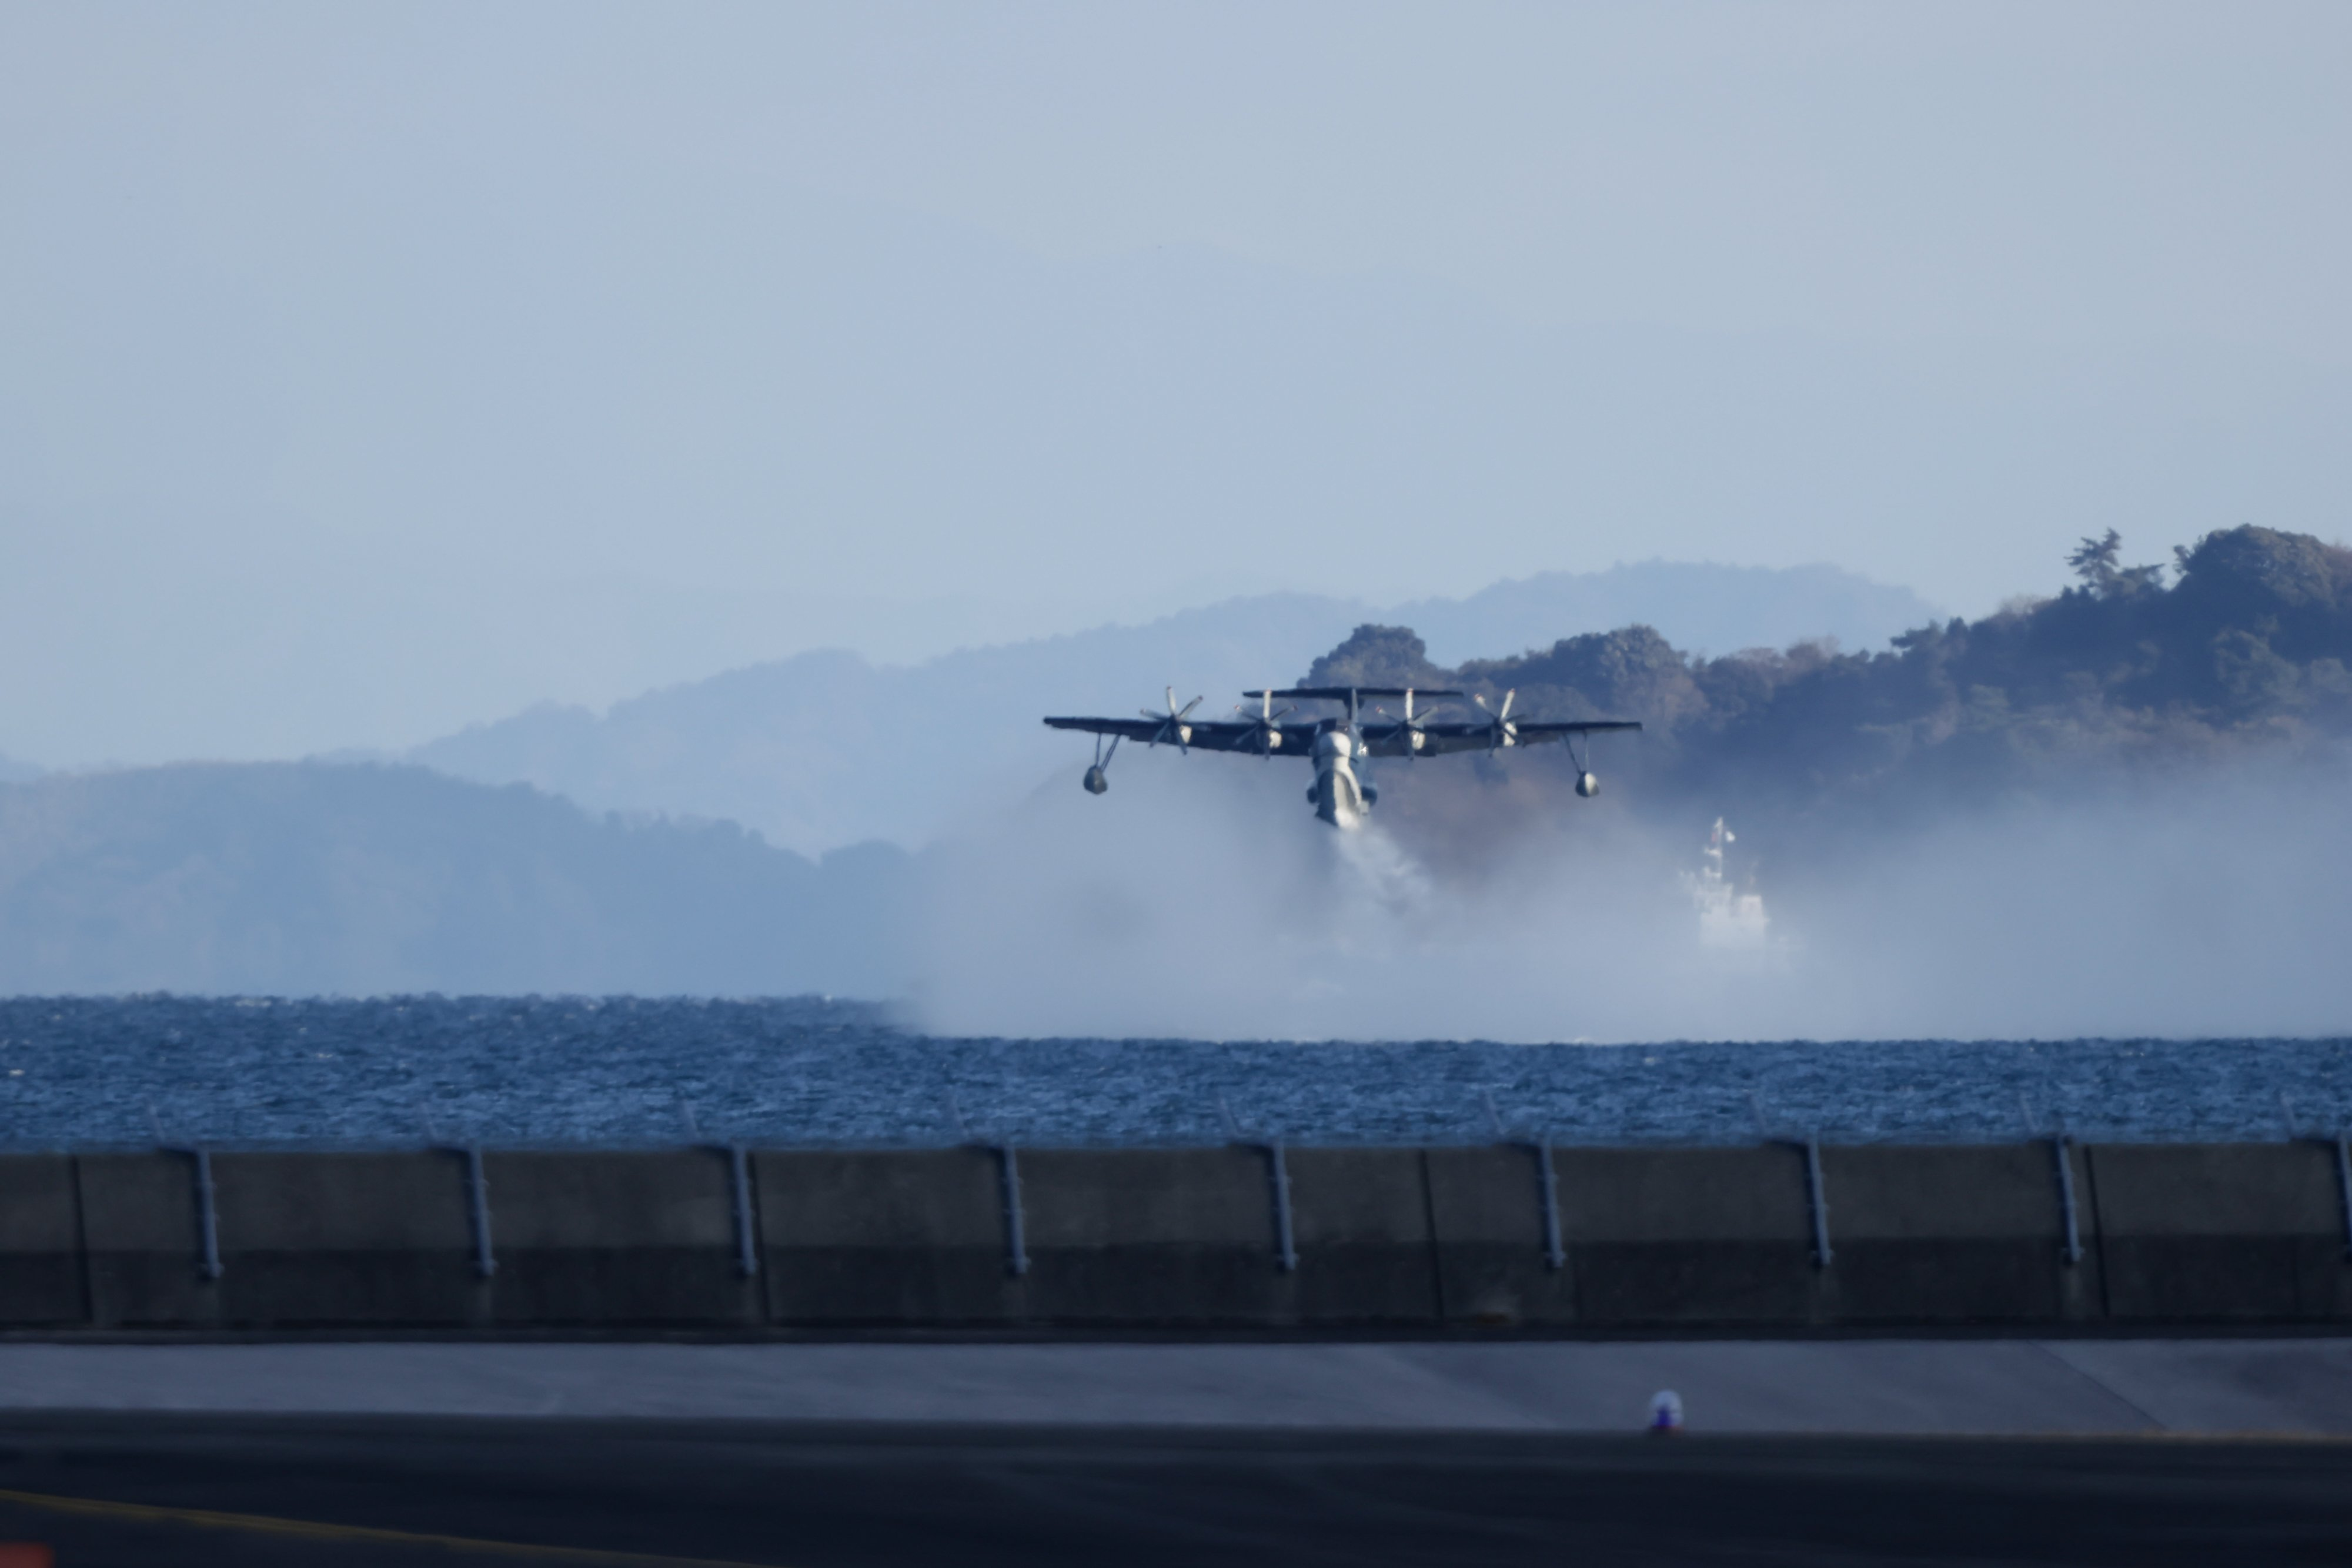airplane: (1041, 684, 1643, 828)
